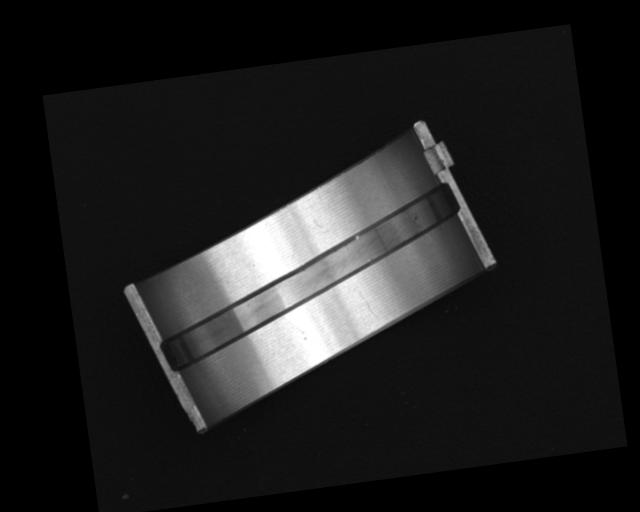gap: (143, 183, 476, 372)
nick: (358, 289, 379, 321)
